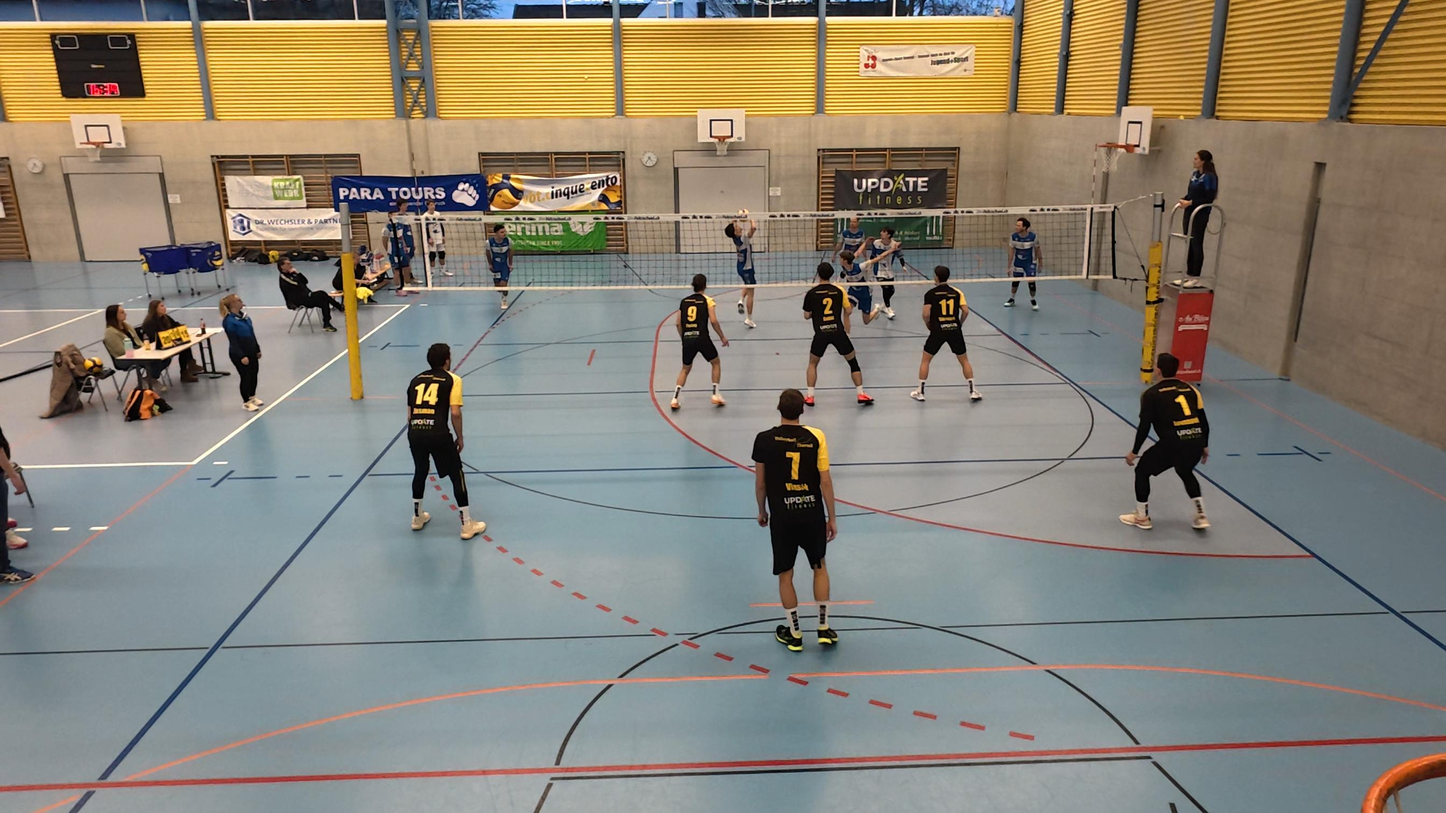alzata: (720, 212, 763, 333)
